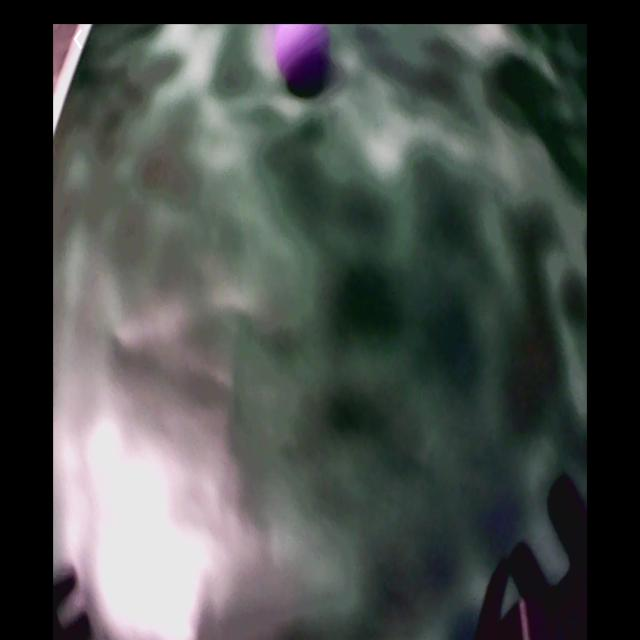ball: (278, 27, 332, 96)
